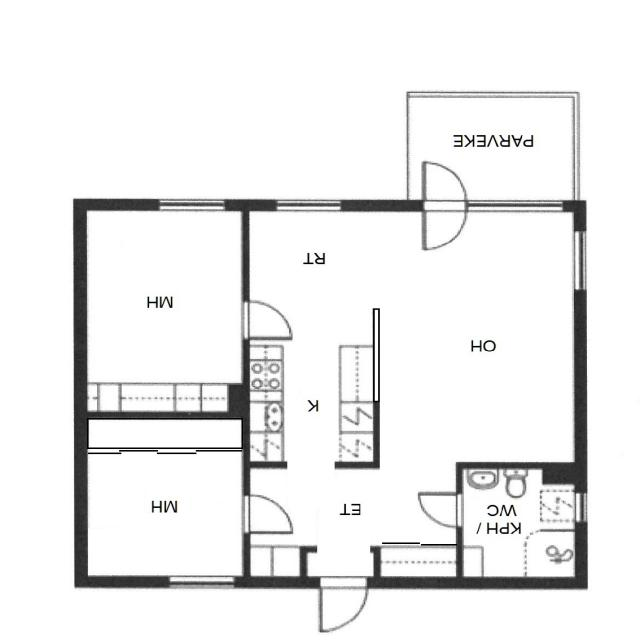door: (321, 578, 366, 630), (423, 199, 466, 250), (423, 160, 466, 210), (242, 496, 290, 532), (242, 302, 290, 338), (418, 494, 463, 527)
